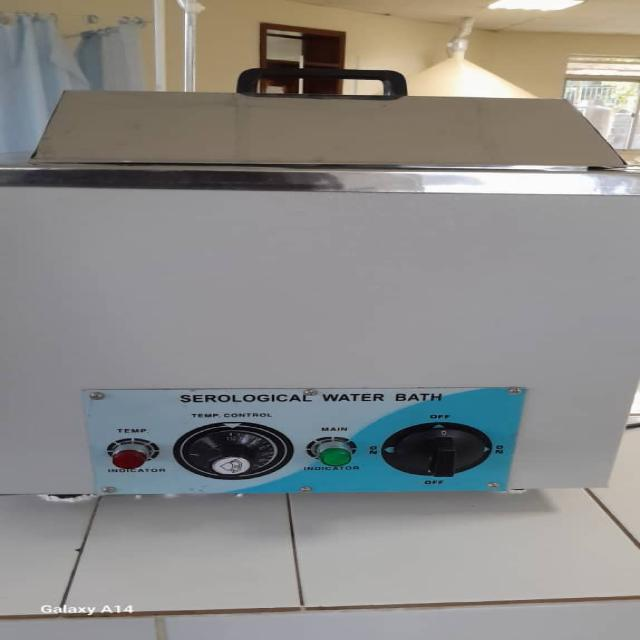Water-Oil Bath: (32, 87, 640, 512)
